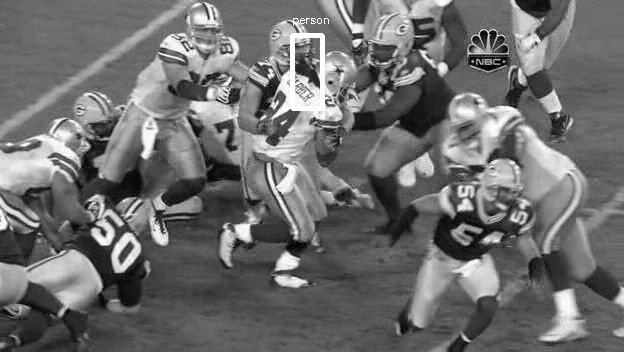person: (324, 55, 359, 100), (323, 55, 358, 100), (325, 55, 360, 100), (324, 54, 359, 99), (324, 56, 359, 101)
target_negative: (309, 136, 519, 261), (189, 33, 571, 96), (276, 243, 540, 275), (368, 307, 549, 349), (274, 178, 510, 199), (197, 179, 206, 227)
